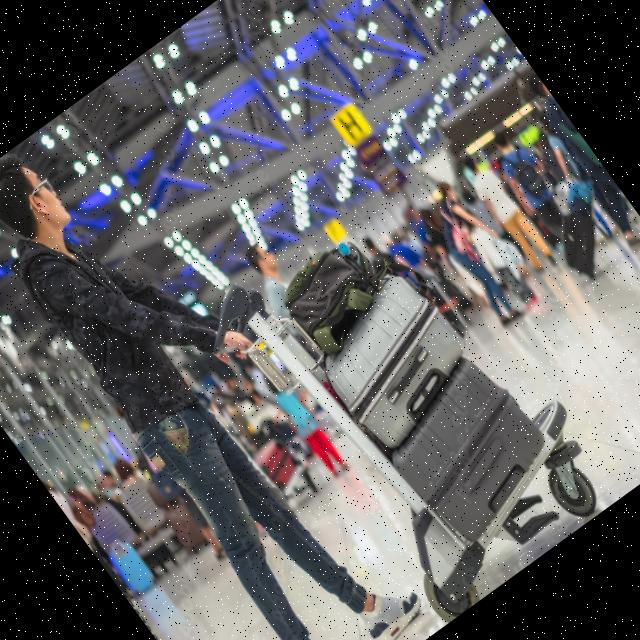Person: (0, 101, 452, 640)
